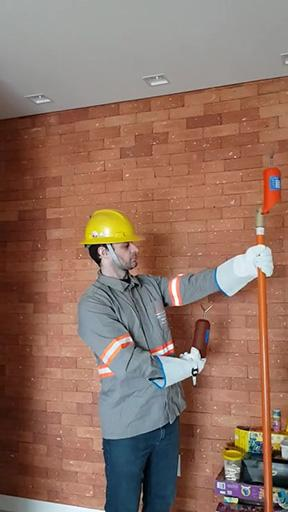Detector_Tensao_Contato: (260, 150, 283, 217), (192, 302, 213, 360)
Vara_Manobra: (253, 213, 275, 512)
